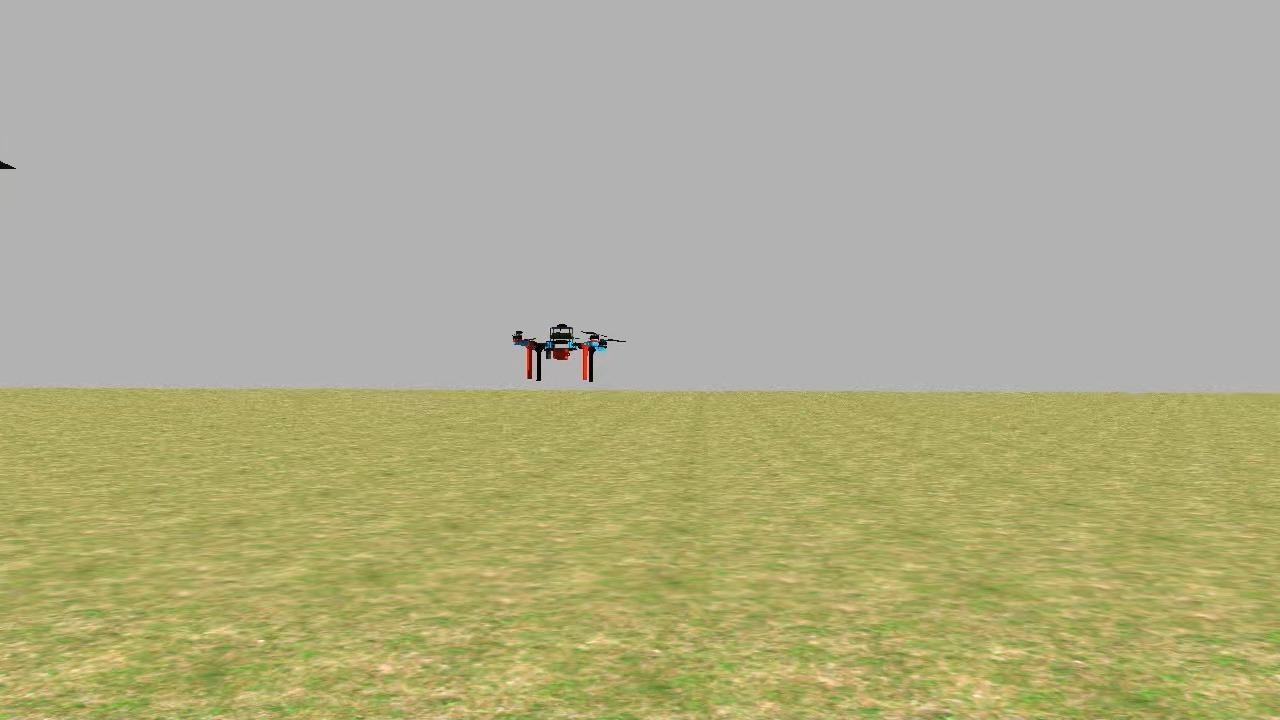UAV: (504, 322, 610, 386)
